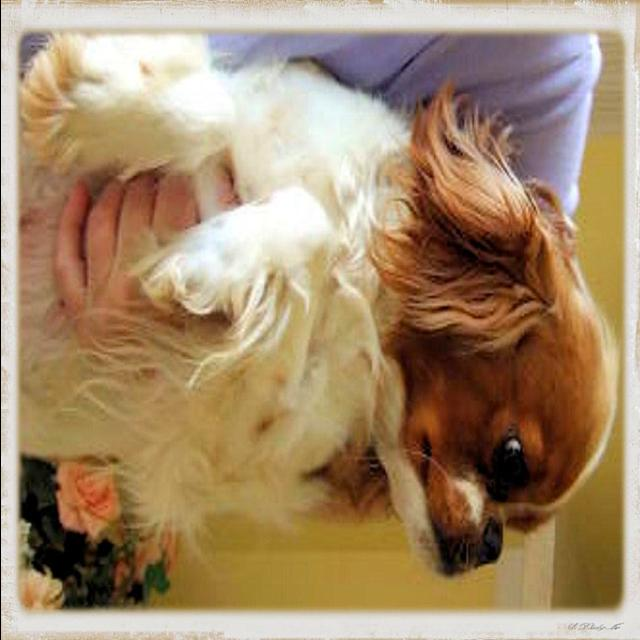blenheim_spaniel: (21, 28, 618, 581)
